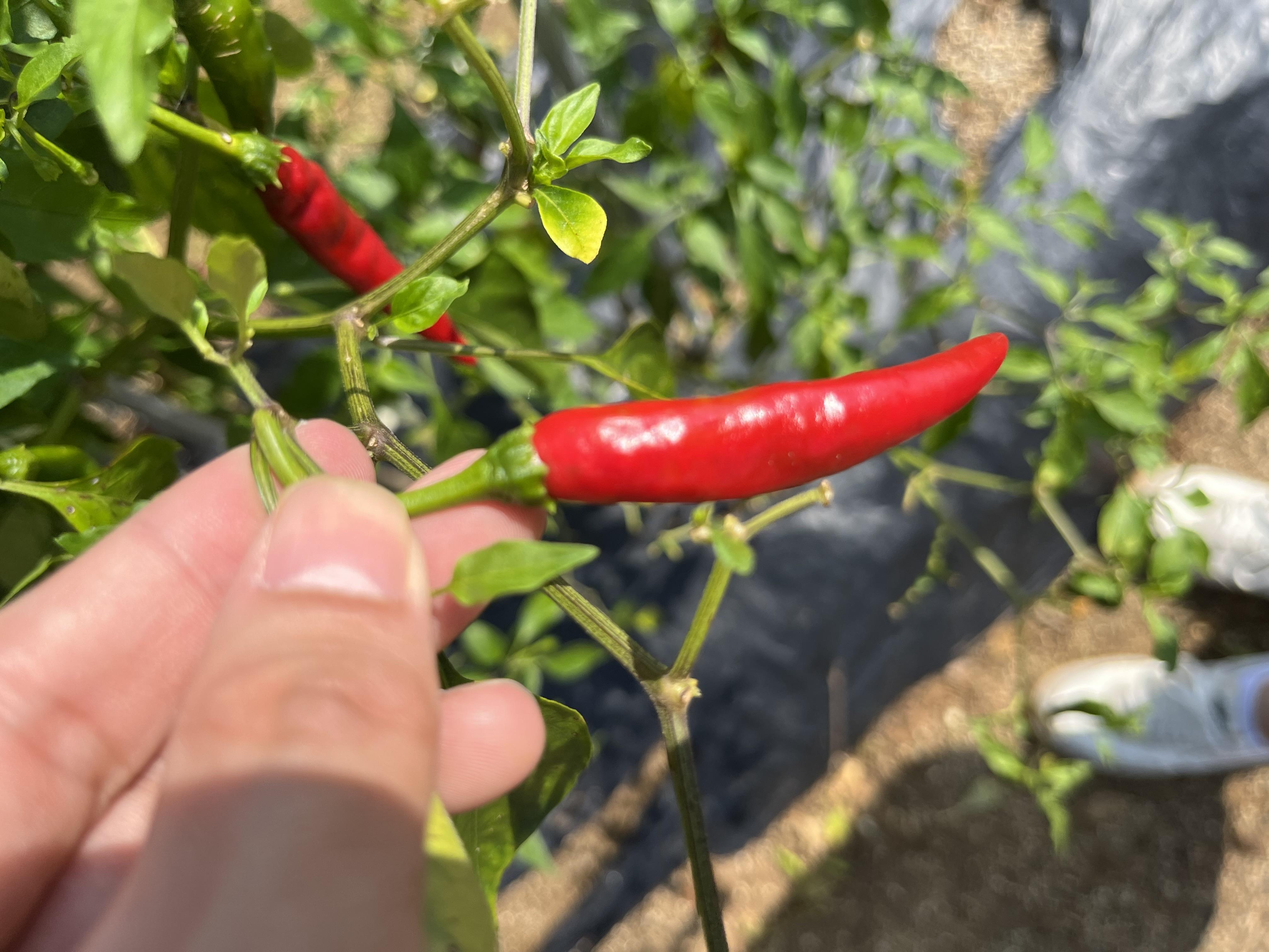Buah Cabai Sehat: (576, 366, 855, 766), (776, 185, 1084, 368)
